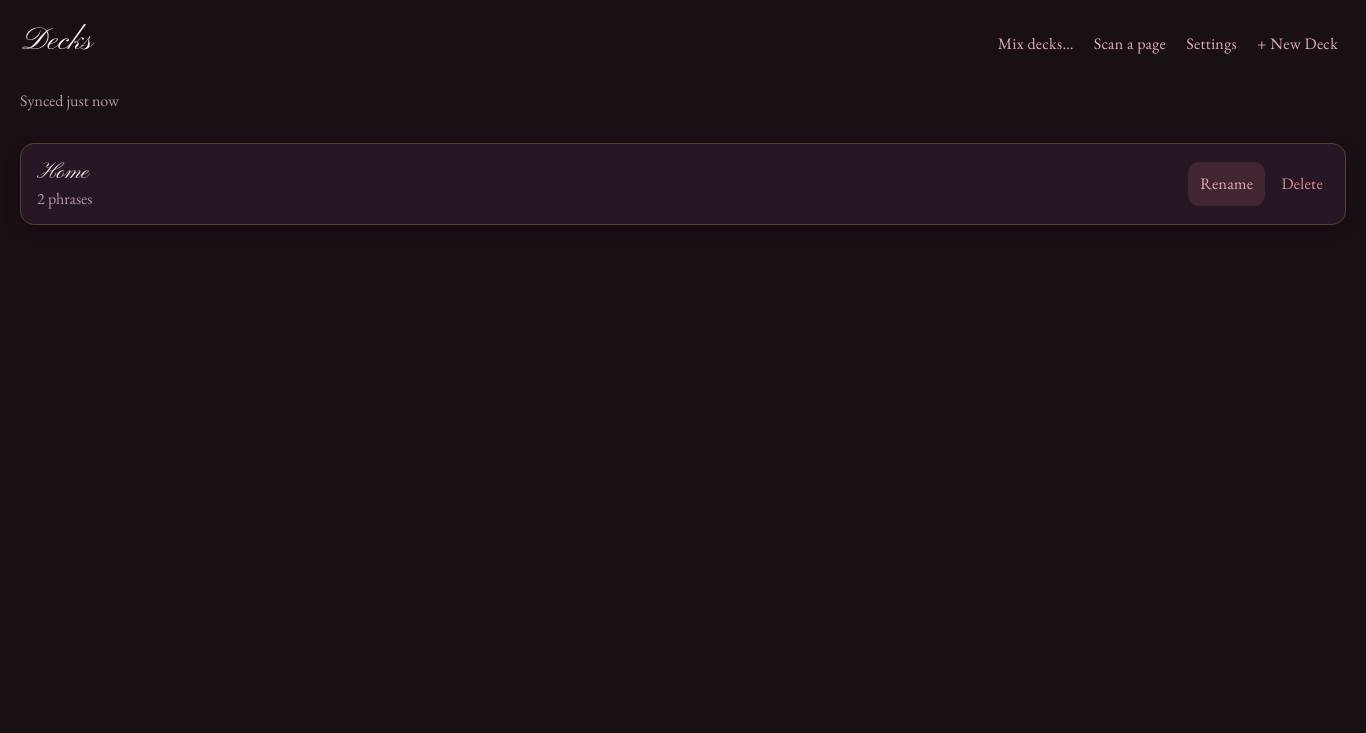
App — existing audio › shows on each Phrase the voice its audio is in and that it is not on this phone yet, with the pinned voice and a way to change it
Click the button with test id "deck-row-d1" at (63, 172), box [21,144,1178,224]
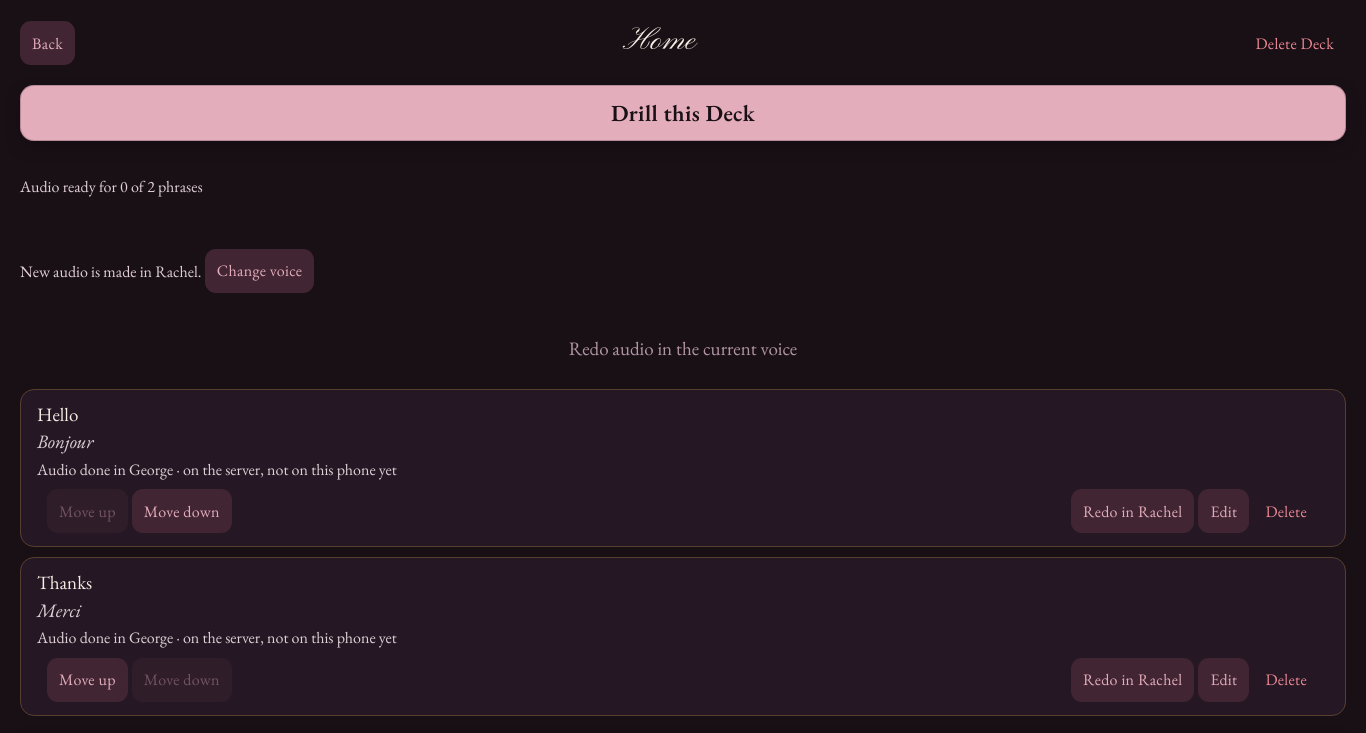
Expected: the text with test id "phrase-audio-p1" reads "Audio done in George · on the server, not on this phone yet", [37,459,397,480]
Expected: the element with test id "deck-voice" shows "New audio is made in Rachel", [20,260,205,281]
Click the button with test id "change-voice" at (260, 270), box [205,248,314,292]
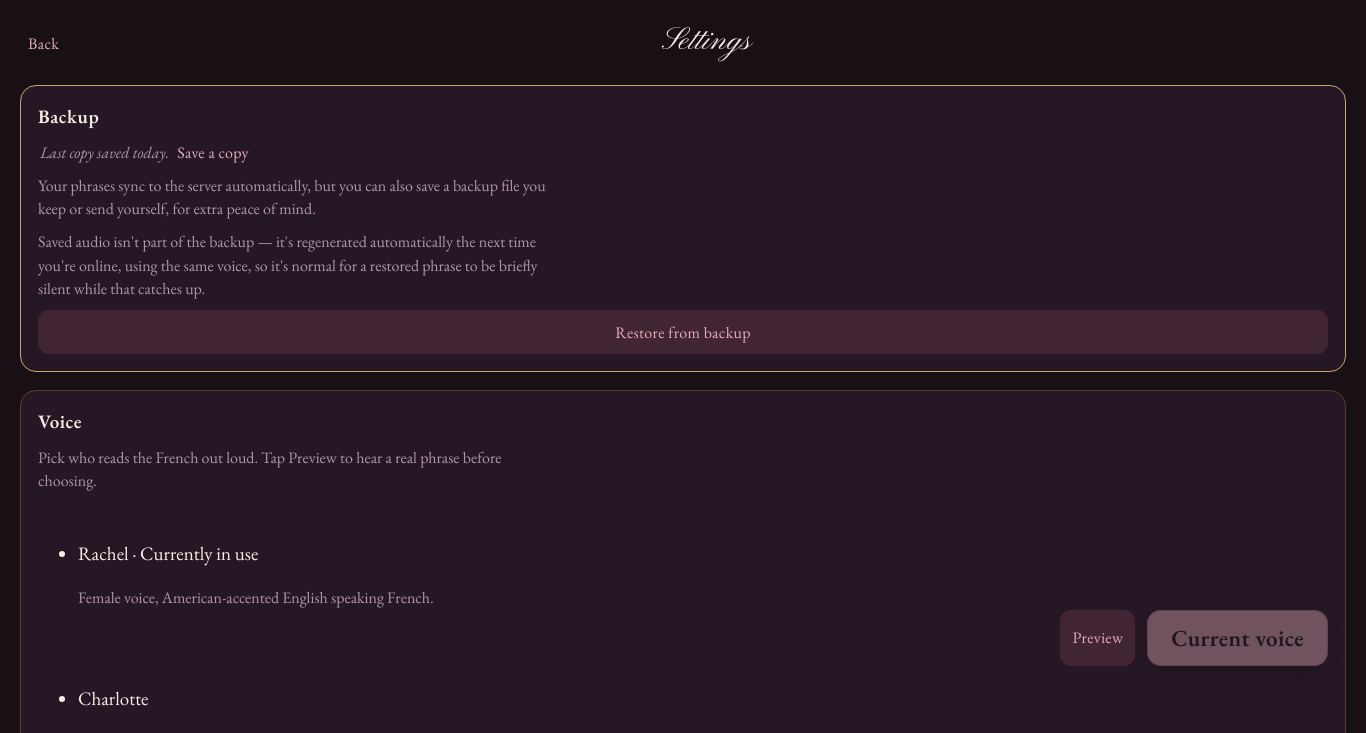
Expected: the button with test id "settings-back" is shown, [20,21,67,65]
